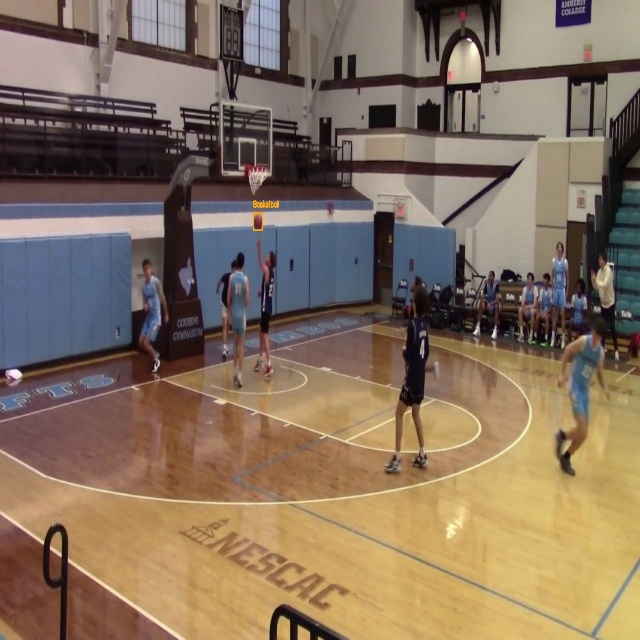Basketball: (253, 213, 263, 230)
